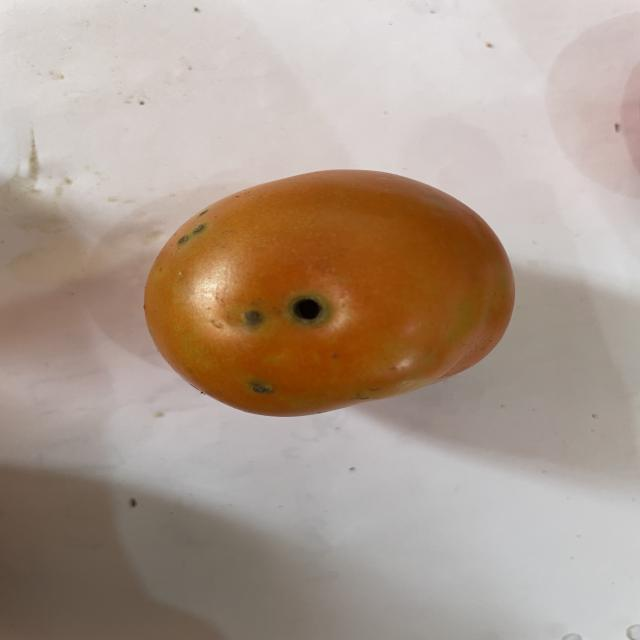fruitworm_bore: (288, 288, 334, 326)
